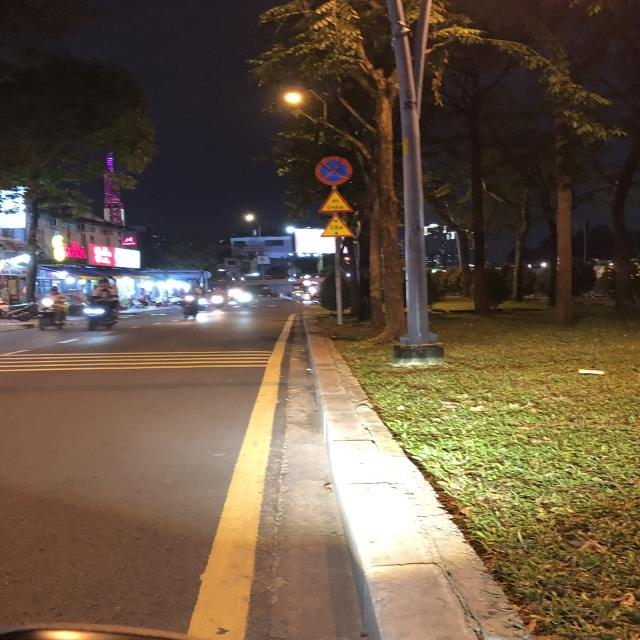Bien bao cam dung xe va do xe: (312, 153, 354, 187)
Bien bao chieu cao tinh khong thuc te: (313, 214, 359, 239)
Bien bao di cham: (315, 187, 358, 216)
